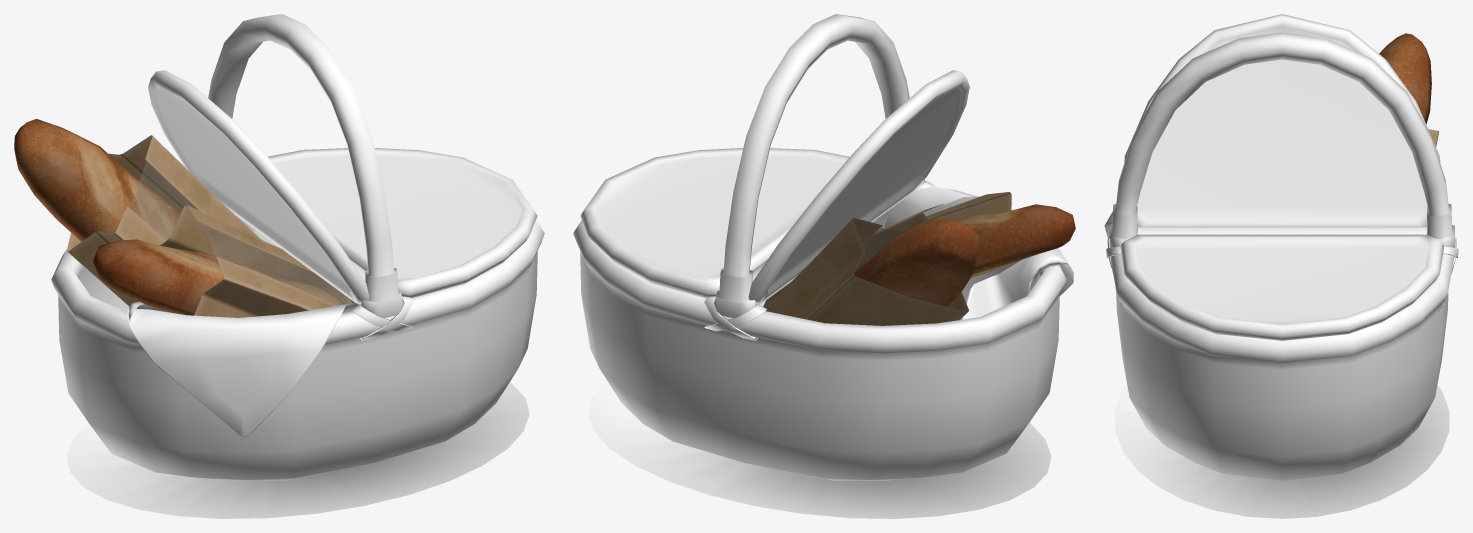
Rendered from pi_basket02.gltf.
The picture shows the model from 3 angles, left to right: view 1: azimuth 30°, elevation 25°; view 2: azimuth 150°, elevation 25°; view 3: azimuth 270°, elevation 25°; orthographic projection. The views are drawn at different scales.
Parts seen in each view (by area): view 1: um_pi_basket02_model_pi_basket02_modelShape:pi_basket02_body, um_pi_basket02_model_pi_basket02_modelShape:pi_wrappingpaper (×2), um_pi_basket02_model_pi_basket02_modelShape:mat_texture_shad, um_pi_basket02_model_pi_basket02_modelShape:pi_bread01_frenc, um_pi_basket02_model_pi_basket02_modelShape:pi_basketcloth01; view 2: um_pi_basket02_model_pi_basket02_modelShape:pi_basket02_body, um_pi_basket02_model_pi_basket02_modelShape:mat_texture_shad, um_pi_basket02_model_pi_basket02_modelShape:pi_wrappingpaper (×2), um_pi_basket02_model_pi_basket02_modelShape:pi_bread01_frenc, um_pi_basket02_model_pi_basket02_modelShape:pi_basketcloth01; view 3: um_pi_basket02_model_pi_basket02_modelShape:pi_basket02_body, um_pi_basket02_model_pi_basket02_modelShape:mat_texture_shad, um_pi_basket02_model_pi_basket02_modelShape:pi_bread01_frenc.
Part boxes in pixels (x1,y1,x2,y2): um_pi_basket02_model_pi_basket02_modelShape:pi_basket02_body: (51, 14, 544, 480); um_pi_basket02_model_pi_basket02_modelShape:pi_wrappingpaper (×2): (66, 135, 354, 317); um_pi_basket02_model_pi_basket02_modelShape:mat_texture_shad: (66, 382, 529, 518); um_pi_basket02_model_pi_basket02_modelShape:pi_bread01_frenc: (14, 119, 344, 315); um_pi_basket02_model_pi_basket02_modelShape:pi_basketcloth01: (127, 230, 358, 437); um_pi_basket02_model_pi_basket02_modelShape:pi_basket02_body: (573, 14, 1066, 480); um_pi_basket02_model_pi_basket02_modelShape:mat_texture_shad: (588, 382, 1051, 518); um_pi_basket02_model_pi_basket02_modelShape:pi_wrappingpaper (×2): (763, 192, 1017, 325); um_pi_basket02_model_pi_basket02_modelShape:pi_bread01_frenc: (854, 204, 1075, 306); um_pi_basket02_model_pi_basket02_modelShape:pi_basketcloth01: (883, 186, 1073, 319); um_pi_basket02_model_pi_basket02_modelShape:pi_basket02_body: (1106, 14, 1458, 480); um_pi_basket02_model_pi_basket02_modelShape:mat_texture_shad: (1115, 385, 1449, 518); um_pi_basket02_model_pi_basket02_modelShape:pi_bread01_frenc: (1379, 33, 1431, 124).
Size of the model in its own units: 0.5715 by 0.4966 by 0.4129.
Materials: 7 (4 with a texture image).
